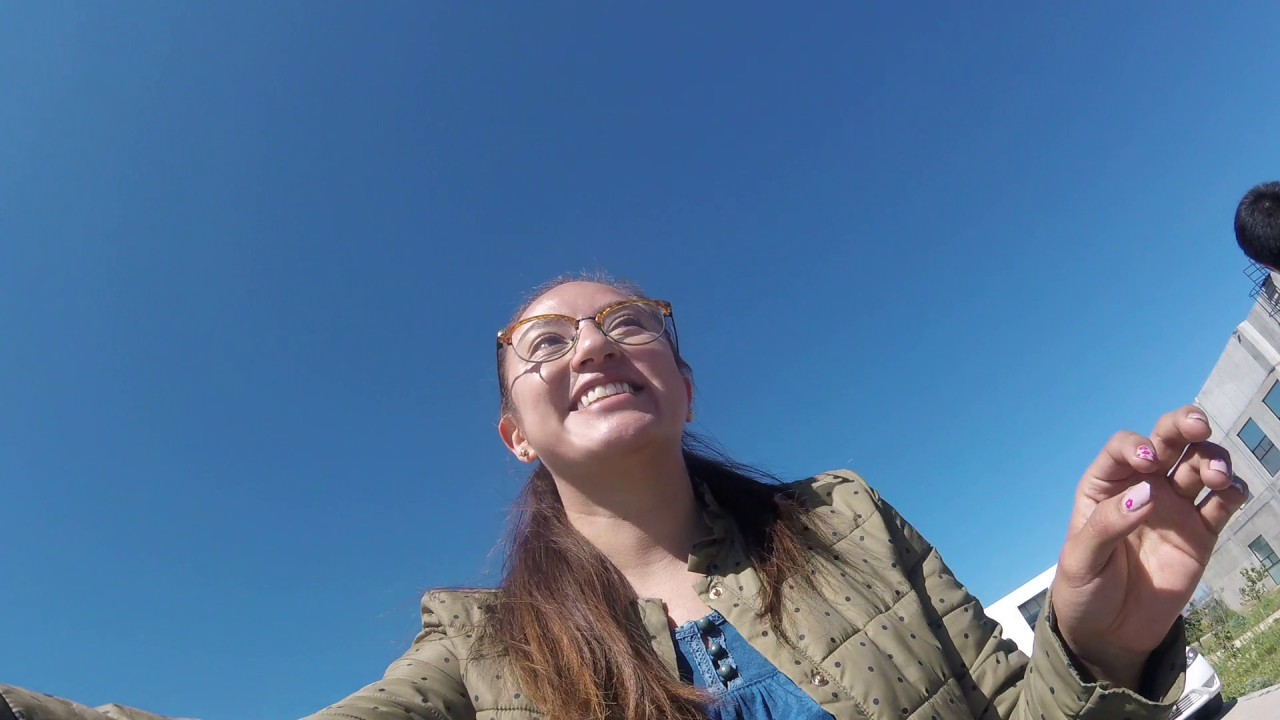Without Helmet: (479, 260, 698, 491)
